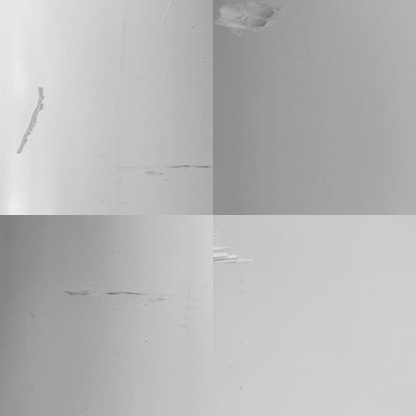sunshang: (216, 1, 287, 41), (17, 84, 50, 156), (213, 243, 257, 267)
